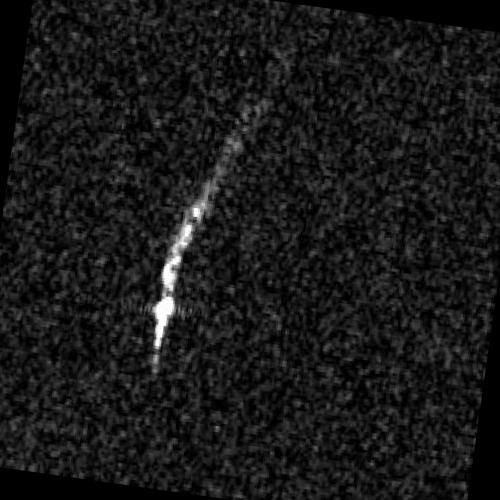ship: (153, 237, 182, 354)
